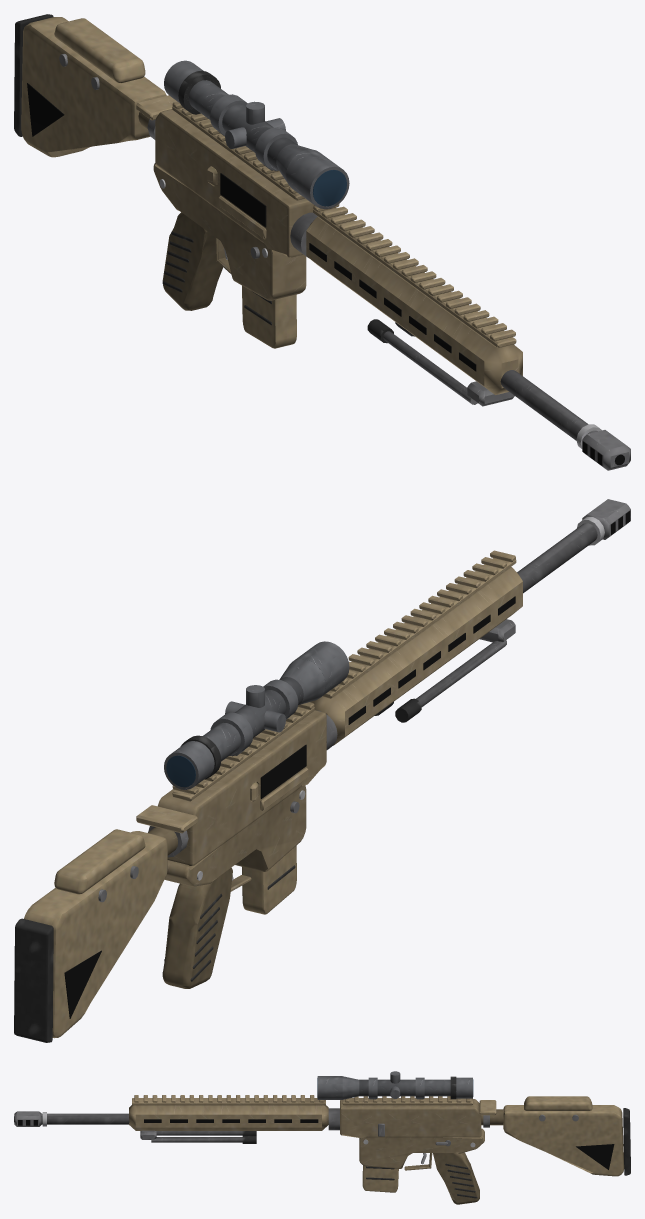
The model's file is arbiter.glb.
3 renders of one model, top to bottom at view 1: azimuth 30°, elevation 25°; view 2: azimuth 150°, elevation 25°; view 3: azimuth 270°, elevation 25°, orthographic. The views are drawn at different scales.
Parts seen in each view (by area): view 1: body, mag; view 2: body, mag; view 3: body, mag.
Boxes of the visible parts, x1,y1,x2,y2 form: body: [14, 14, 630, 470]; mag: [242, 285, 296, 348]; body: [14, 499, 630, 1042]; mag: [242, 845, 296, 914]; body: [14, 1071, 630, 1204]; mag: [362, 1165, 398, 1192].
Bounding box in the file's own units: 0.056 × 0.2563 × 1.11.
Materials: 8 (6 with a texture image).
